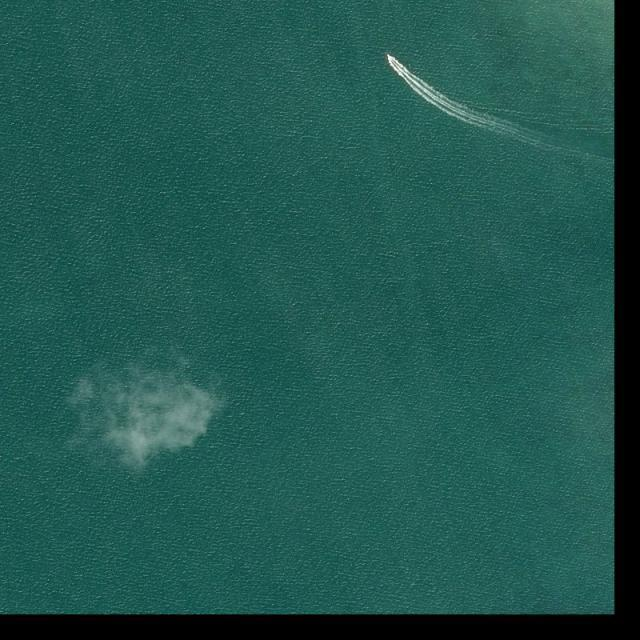ship: (386, 53, 394, 61)
